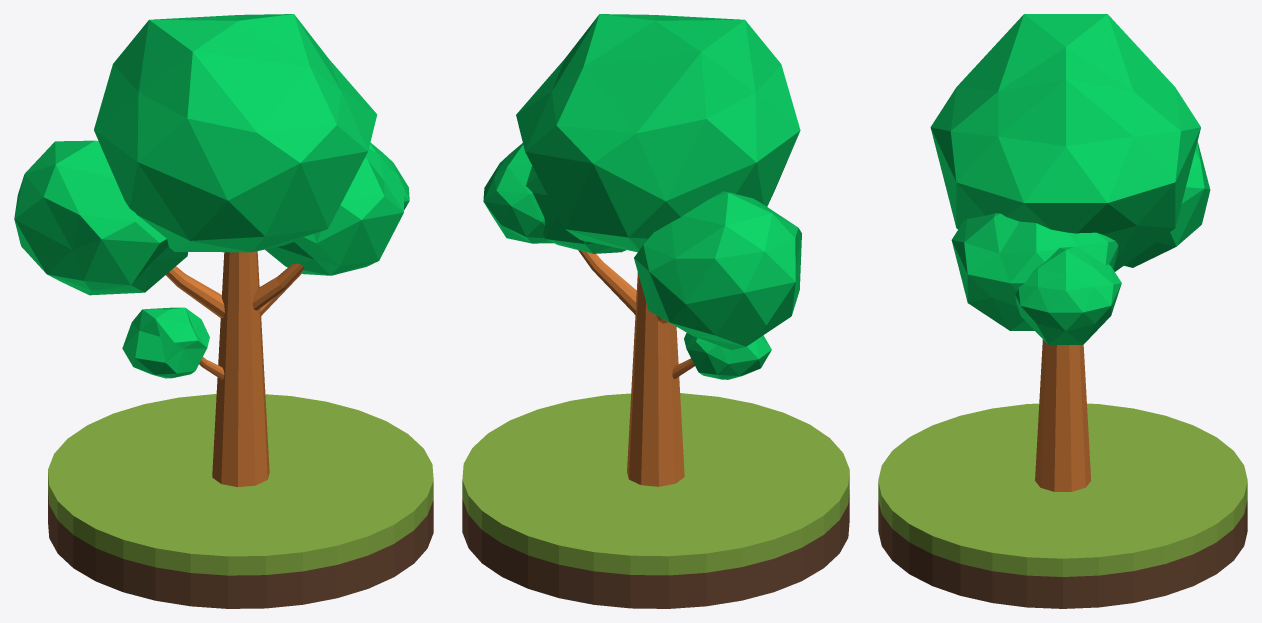
3 views of the same model, side by side, from view 1: azimuth 30°, elevation 25°; view 2: azimuth 150°, elevation 25°; view 3: azimuth 270°, elevation 25° (orthographic). The views are drawn at different scales.
Parts seen in each view (by area): view 1: Material_001-material (×4), Grama-material, Terra-material, Material_002-material (×2), Material_000-material; view 2: Material_001-material (×5), Grama-material, Terra-material, Material_002-material (×2); view 3: Material_001-material (×4), Grama-material, Terra-material, Material_002-material.
Part boxes in pixels (x1,y1,x2,y2): Material_001-material (×4): [14, 14, 403, 378]; Grama-material: [48, 394, 433, 575]; Terra-material: [48, 491, 433, 608]; Material_002-material (×2): [166, 251, 269, 486]; Material_000-material: [252, 263, 304, 310]; Material_001-material (×5): [483, 14, 801, 379]; Grama-material: [462, 393, 849, 575]; Terra-material: [462, 490, 849, 608]; Material_002-material (×2): [578, 250, 684, 486]; Material_001-material (×4): [930, 14, 1210, 344]; Grama-material: [878, 403, 1247, 576]; Terra-material: [878, 500, 1247, 608]; Material_002-material: [1035, 339, 1091, 491].
Bounding box in the file's own units: 2.09 × 2.9 × 2.
